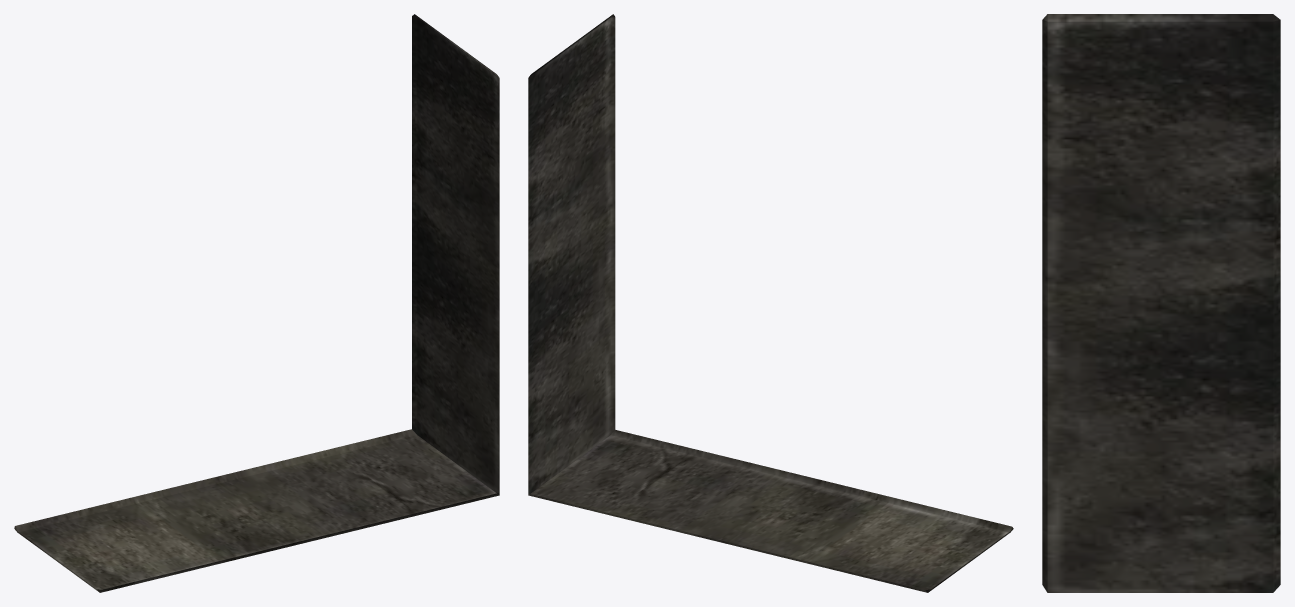
The picture shows the model from 3 angles, left to right: view 1: azimuth 30°, elevation 25°; view 2: azimuth 150°, elevation 25°; view 3: azimuth 270°, elevation 25°; orthographic projection. The views are drawn at different scales.
Visible parts, largest first — view 1: model_object30; view 2: model_object30; view 3: model_object30.
Part boxes in pixels (<box>): model_object30: <box>14,14,499,592</box>; model_object30: <box>528,14,1013,592</box>; model_object30: <box>1042,14,1280,592</box>.
Size of the model in its own units: 4 by 4 by 1.5.
Materials: 1 (1 with a texture image).
